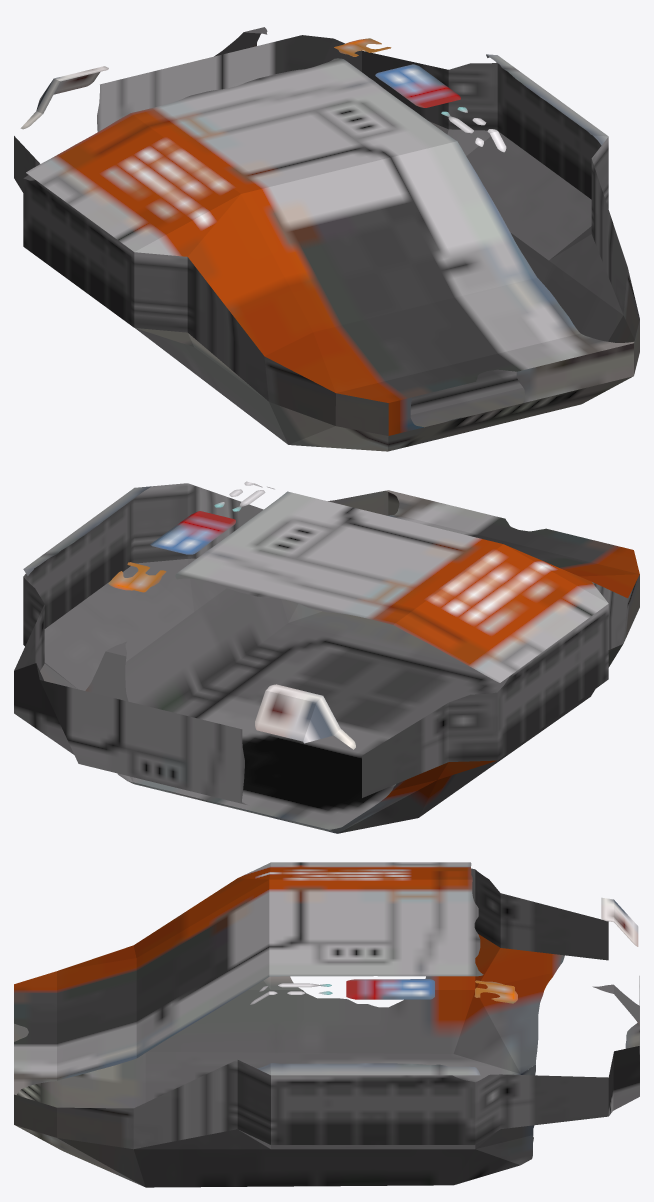
The model's file is TurretBody-UVFlip.obj.
The picture shows the model from 3 angles, top to bottom: view 1: azimuth 30°, elevation 25°; view 2: azimuth 150°, elevation 25°; view 3: azimuth 270°, elevation 25°; orthographic projection. The views are drawn at different scales.
Parts seen in each view (by area): view 1: Hgn_Turret; view 2: Hgn_Turret; view 3: Hgn_Turret.
Part boxes in pixels (bbox=[...]): Hgn_Turret: bbox=[14, 27, 639, 451]; Hgn_Turret: bbox=[14, 481, 639, 833]; Hgn_Turret: bbox=[14, 862, 639, 1187].
Bounding box in the file's own units: 25.22 × 10 × 31.34.
